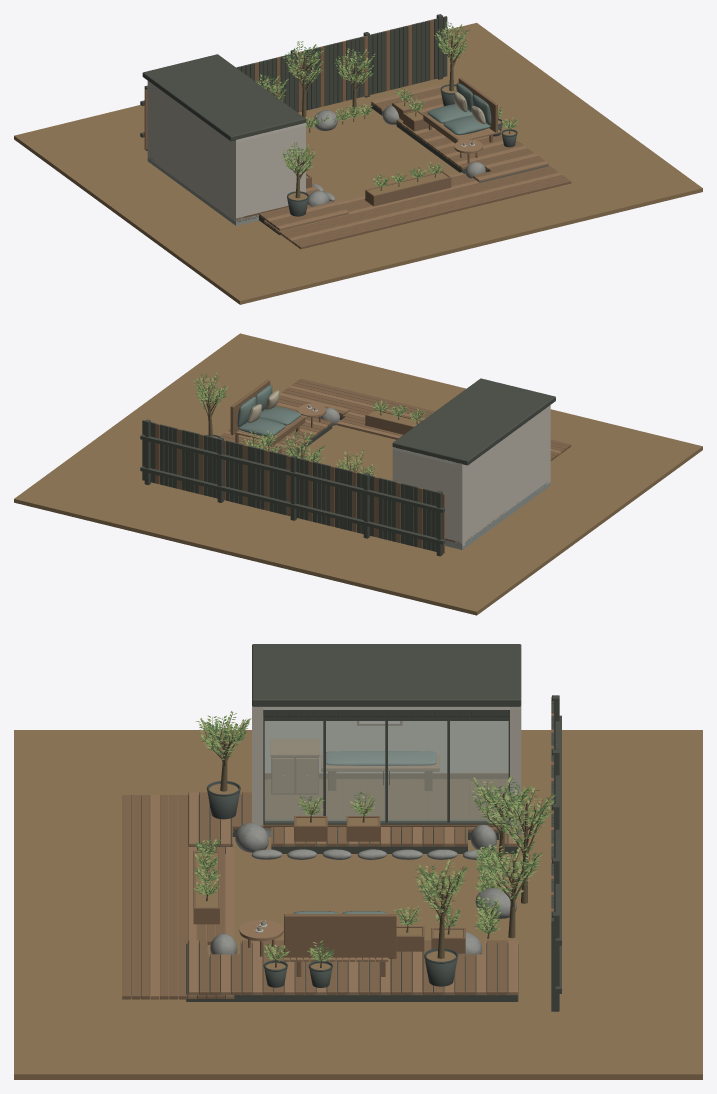
The model's file is refined-courtyard.glb.
3 renders of one model, top to bottom at view 1: azimuth 30°, elevation 25°; view 2: azimuth 150°, elevation 25°; view 3: azimuth 270°, elevation 25°, orthographic. The views are drawn at different scales.
Visible parts, largest first — view 1: Courtyard_Compacted warm earth.001, Courtyard_Dark stained wood, Courtyard_Oiled cedar, Courtyard_Room warm plaster.001, Courtyard_Cedar warm grain, Courtyard_Tree bark, Courtyard_Leaf new growth, Courtyard_Leaf forest, Courtyard_Leaf sunlit, Courtyard_Woven sage upholstery, Courtyard_Fine weathered garden stone, Courtyard_Charcoal ceramic (+1 smaller); view 2: Courtyard_Compacted warm earth.001, Courtyard_Dark stained wood, Courtyard_Room warm plaster.001, Courtyard_Oiled cedar, Courtyard_Cedar warm grain, Courtyard_Woven sage upholstery, Courtyard_Tree bark, Courtyard_Leaf new growth, Courtyard_Leaf forest, Courtyard_Leaf sunlit, Courtyard_Weathered garden granite; view 3: Courtyard_Compacted warm earth.001, Courtyard_Oiled cedar, Courtyard_Dark stained wood, Courtyard_Smoky reflective glass, Courtyard_Cedar warm grain, Courtyard_Room warm plaster.001, Courtyard_Room smoked oak.001, Courtyard_Tree bark, Courtyard_Fine weathered garden stone, Courtyard_Leaf new growth, Courtyard_Leaf forest, Courtyard_Leaf sunlit (+3 smaller).
Part boxes in pixels (x1,y1,x2,y2): Courtyard_Compacted warm earth.001: [14, 23, 702, 304]; Courtyard_Dark stained wood: [140, 14, 548, 235]; Courtyard_Oiled cedar: [144, 19, 571, 249]; Courtyard_Room warm plaster.001: [147, 81, 305, 222]; Courtyard_Cedar warm grain: [264, 84, 561, 242]; Courtyard_Tree bark: [261, 22, 514, 198]; Courtyard_Leaf new growth: [259, 24, 517, 186]; Courtyard_Leaf forest: [256, 23, 516, 186]; Courtyard_Leaf sunlit: [256, 21, 518, 186]; Courtyard_Woven sage upholstery: [427, 83, 491, 135]; Courtyard_Fine weathered garden stone: [307, 105, 485, 206]; Courtyard_Charcoal ceramic: [287, 84, 517, 216]; Courtyard_Compacted warm earth.001: [14, 333, 702, 615]; Courtyard_Dark stained wood: [140, 378, 555, 556]; Courtyard_Room warm plaster.001: [392, 405, 550, 546]; Courtyard_Oiled cedar: [155, 378, 571, 553]; Courtyard_Cedar warm grain: [224, 385, 561, 455]; Courtyard_Woven sage upholstery: [237, 385, 301, 436]; Courtyard_Tree bark: [196, 376, 424, 475]; Courtyard_Leaf new growth: [193, 375, 432, 475]; Courtyard_Leaf forest: [194, 374, 429, 475]; Courtyard_Leaf sunlit: [195, 372, 428, 474]; Courtyard_Weathered garden granite: [445, 481, 550, 549]; Courtyard_Compacted warm earth.001: [14, 730, 702, 1079]; Courtyard_Oiled cedar: [122, 696, 553, 999]; Courtyard_Dark stained wood: [186, 644, 561, 1011]; Courtyard_Smoky reflective glass: [264, 721, 508, 820]; Courtyard_Cedar warm grain: [150, 739, 517, 999]; Courtyard_Room warm plaster.001: [252, 706, 521, 827]; Courtyard_Room smoked oak.001: [261, 756, 521, 831]; Courtyard_Tree bark: [196, 712, 551, 967]; Courtyard_Fine weathered garden stone: [210, 822, 516, 956]; Courtyard_Leaf new growth: [194, 711, 555, 961]; Courtyard_Leaf forest: [192, 716, 555, 962]; Courtyard_Leaf sunlit: [194, 713, 553, 961].
Bounding box in the file's own units: 13 × 2.53 × 11.
20 materials, 3 textured.
